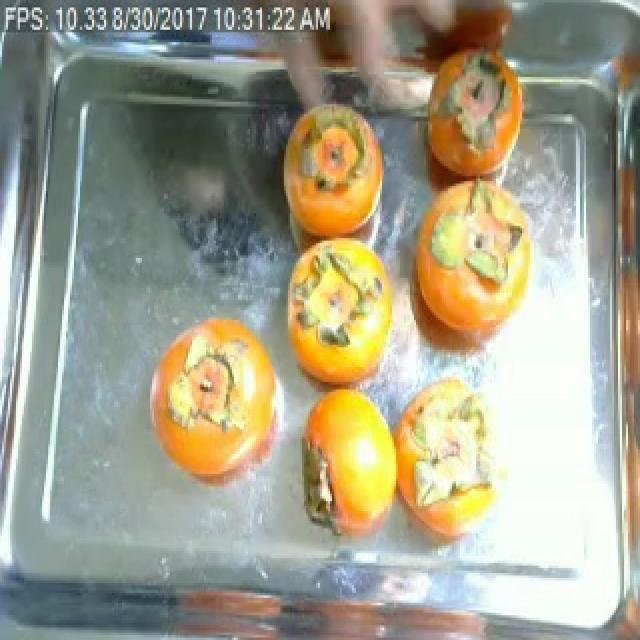Fruit: (140, 302, 284, 503), (268, 94, 400, 258), (158, 568, 298, 640)
